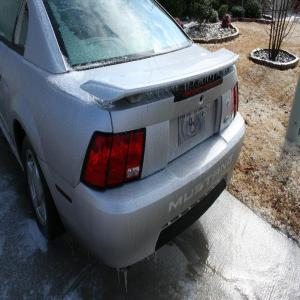Vehicle-registration-plate: (179, 106, 208, 145)
